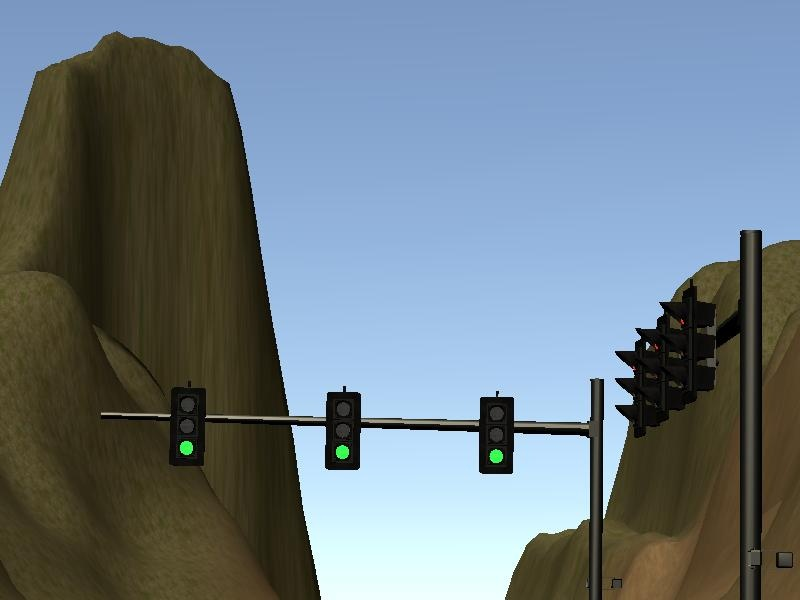green: (478, 397, 514, 476), (169, 388, 203, 468), (325, 393, 359, 469)
